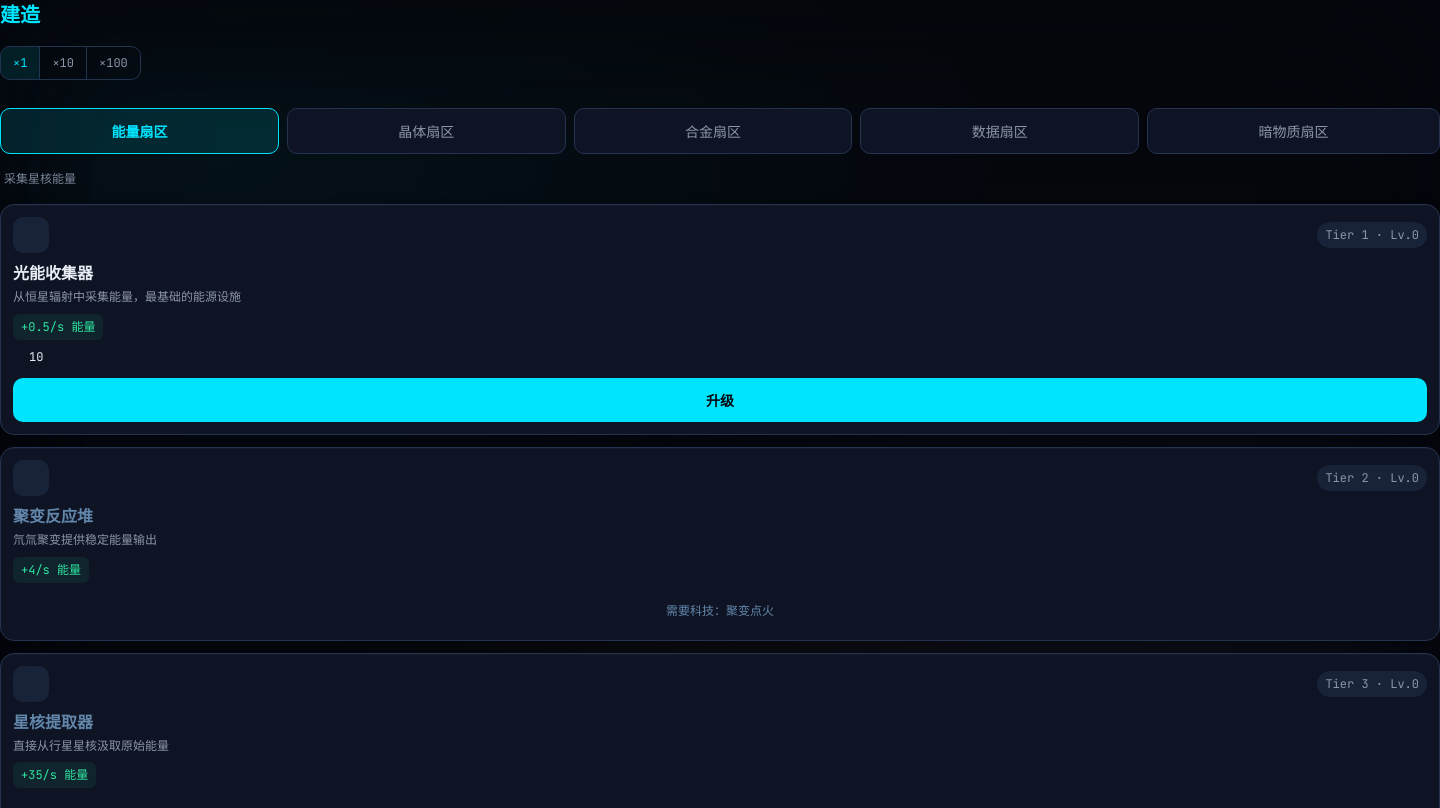
it: BuildView — 挂载与渲染 › 点击扇区页签切换建筑列表
切到晶体扇区（第 2 个页签）
Click the button with class "seg-item" showing "晶体扇区" at (426, 131), box [287, 108, 566, 154]
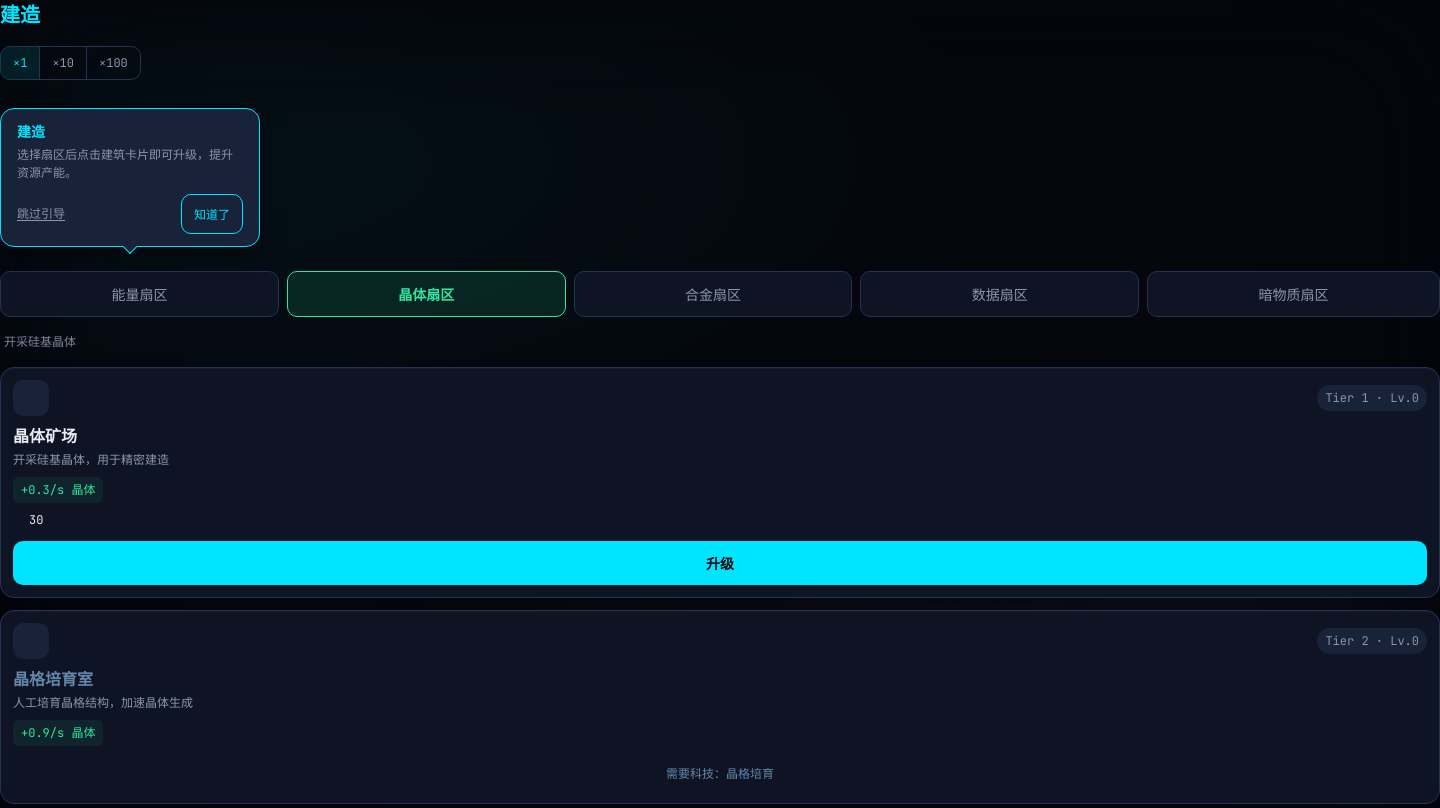
Expected: the button with class "seg-item" reads "晶体扇区", [287, 271, 566, 317]
Expected: the text with class "sector-desc" reads "开采硅基晶体", [4, 333, 76, 350]
